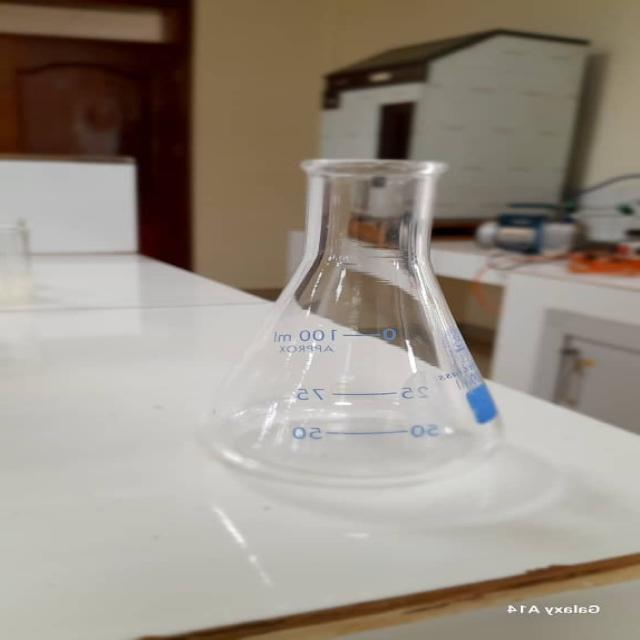Conical Flask: (192, 154, 512, 489)
